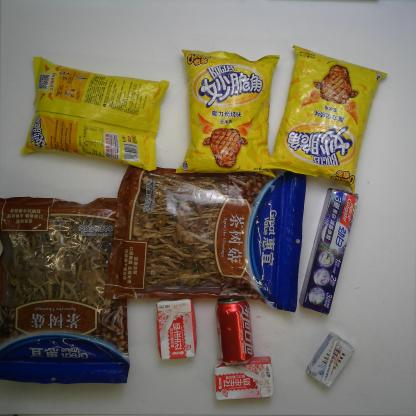Dried Food: (102, 164, 309, 313), (0, 194, 131, 385)
Drink: (214, 295, 255, 369)
Milk: (212, 354, 278, 403), (305, 330, 356, 391), (154, 296, 198, 362)
Personal Hygiene: (297, 186, 361, 316)
Puffed Food: (261, 43, 388, 197), (18, 55, 171, 173), (175, 48, 281, 181)
